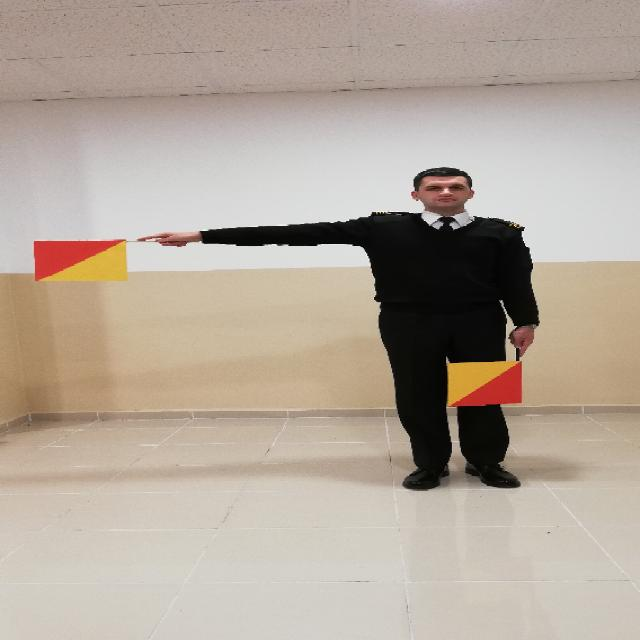Bendera-Semaphore: (3, 157, 584, 507)
